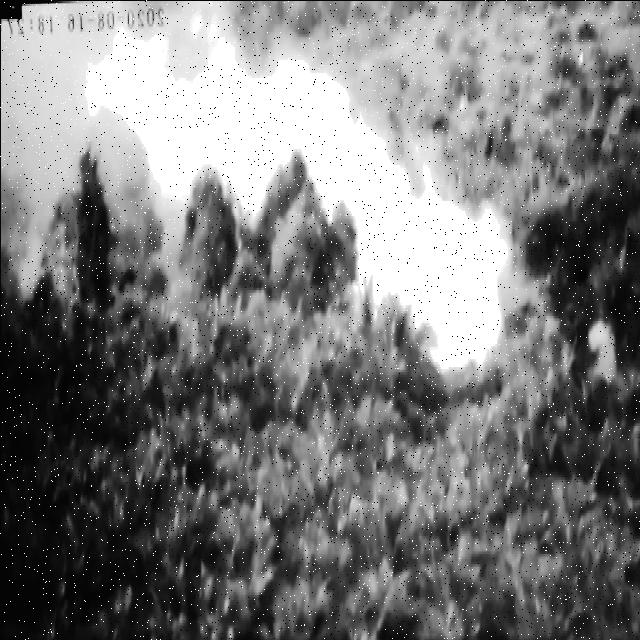asap: (1, 44, 520, 398)
